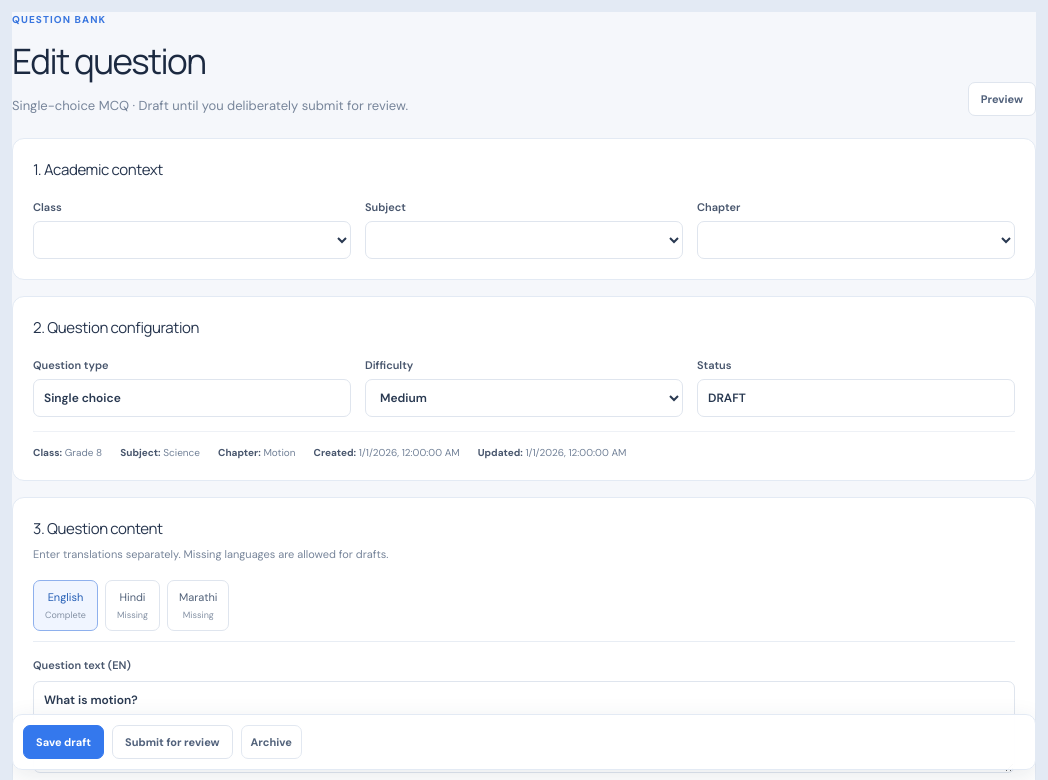
it: question bank pages › submits a draft for review only after confirmation
Step 1. Click the button "Submit for review" → click(172, 742), box top-left (112, 724), bottom-right (233, 759)
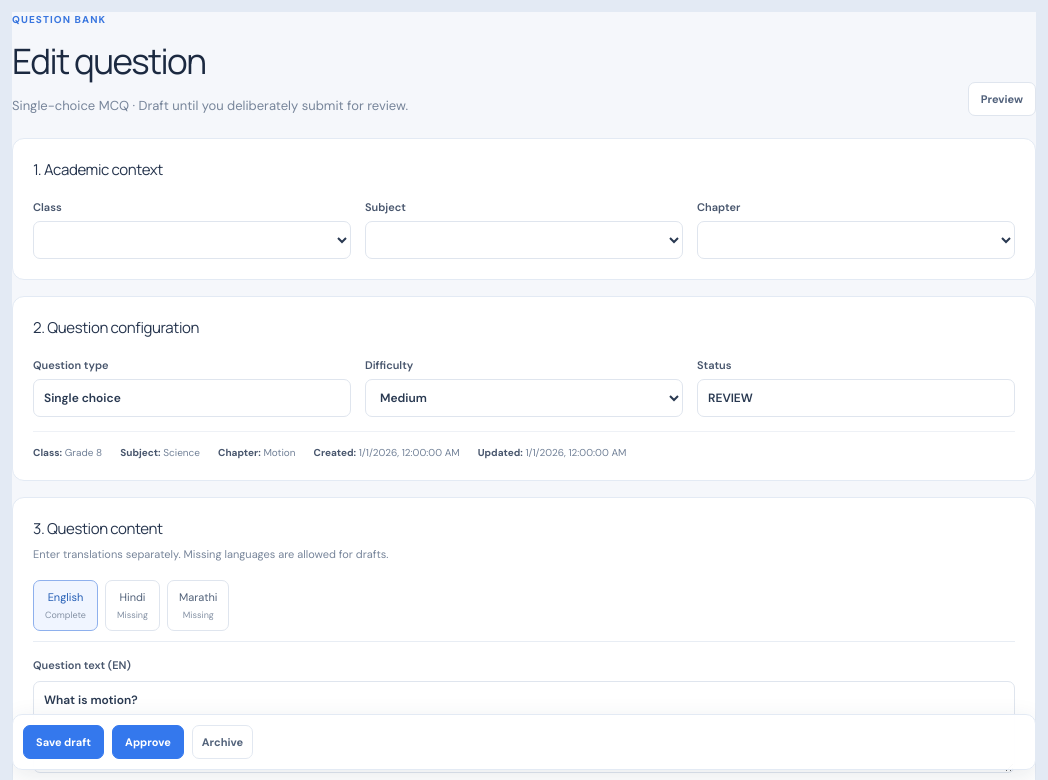
Expected: the button "Approve" is shown, top-left (112, 724), bottom-right (184, 759)
